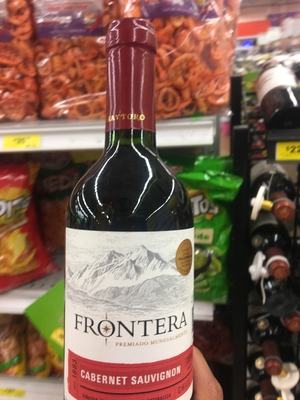frontera cabernet sauvignon: (65, 27, 208, 400)
